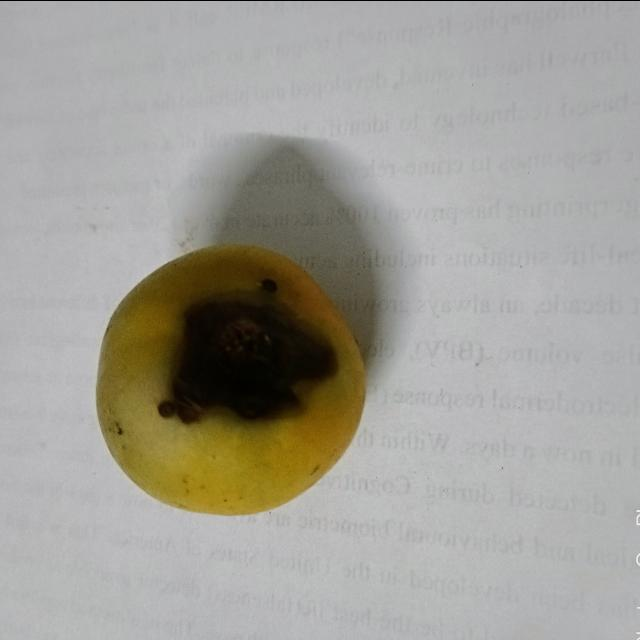Anthrocnose: (159, 289, 336, 429)
